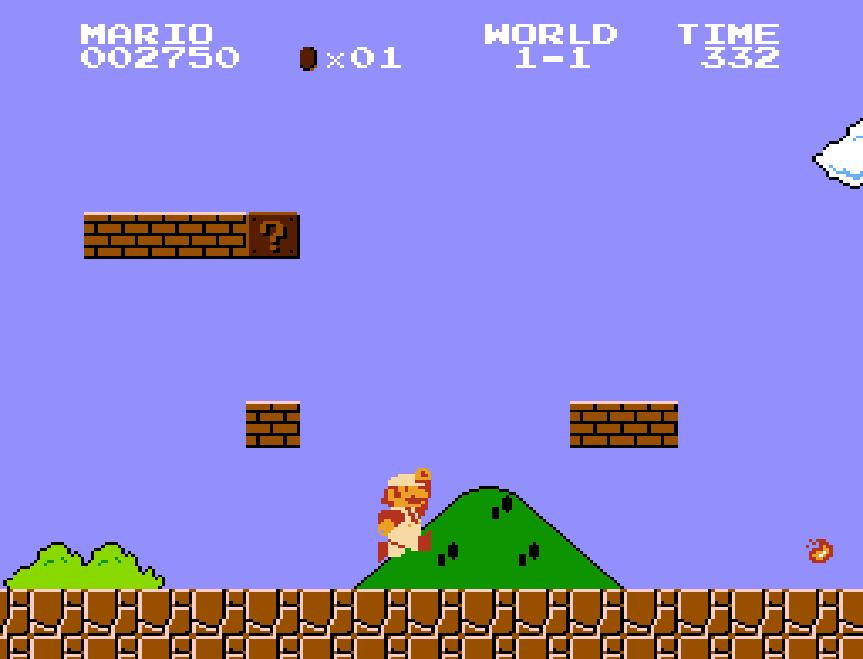fire_mario: (376, 466, 434, 564)
